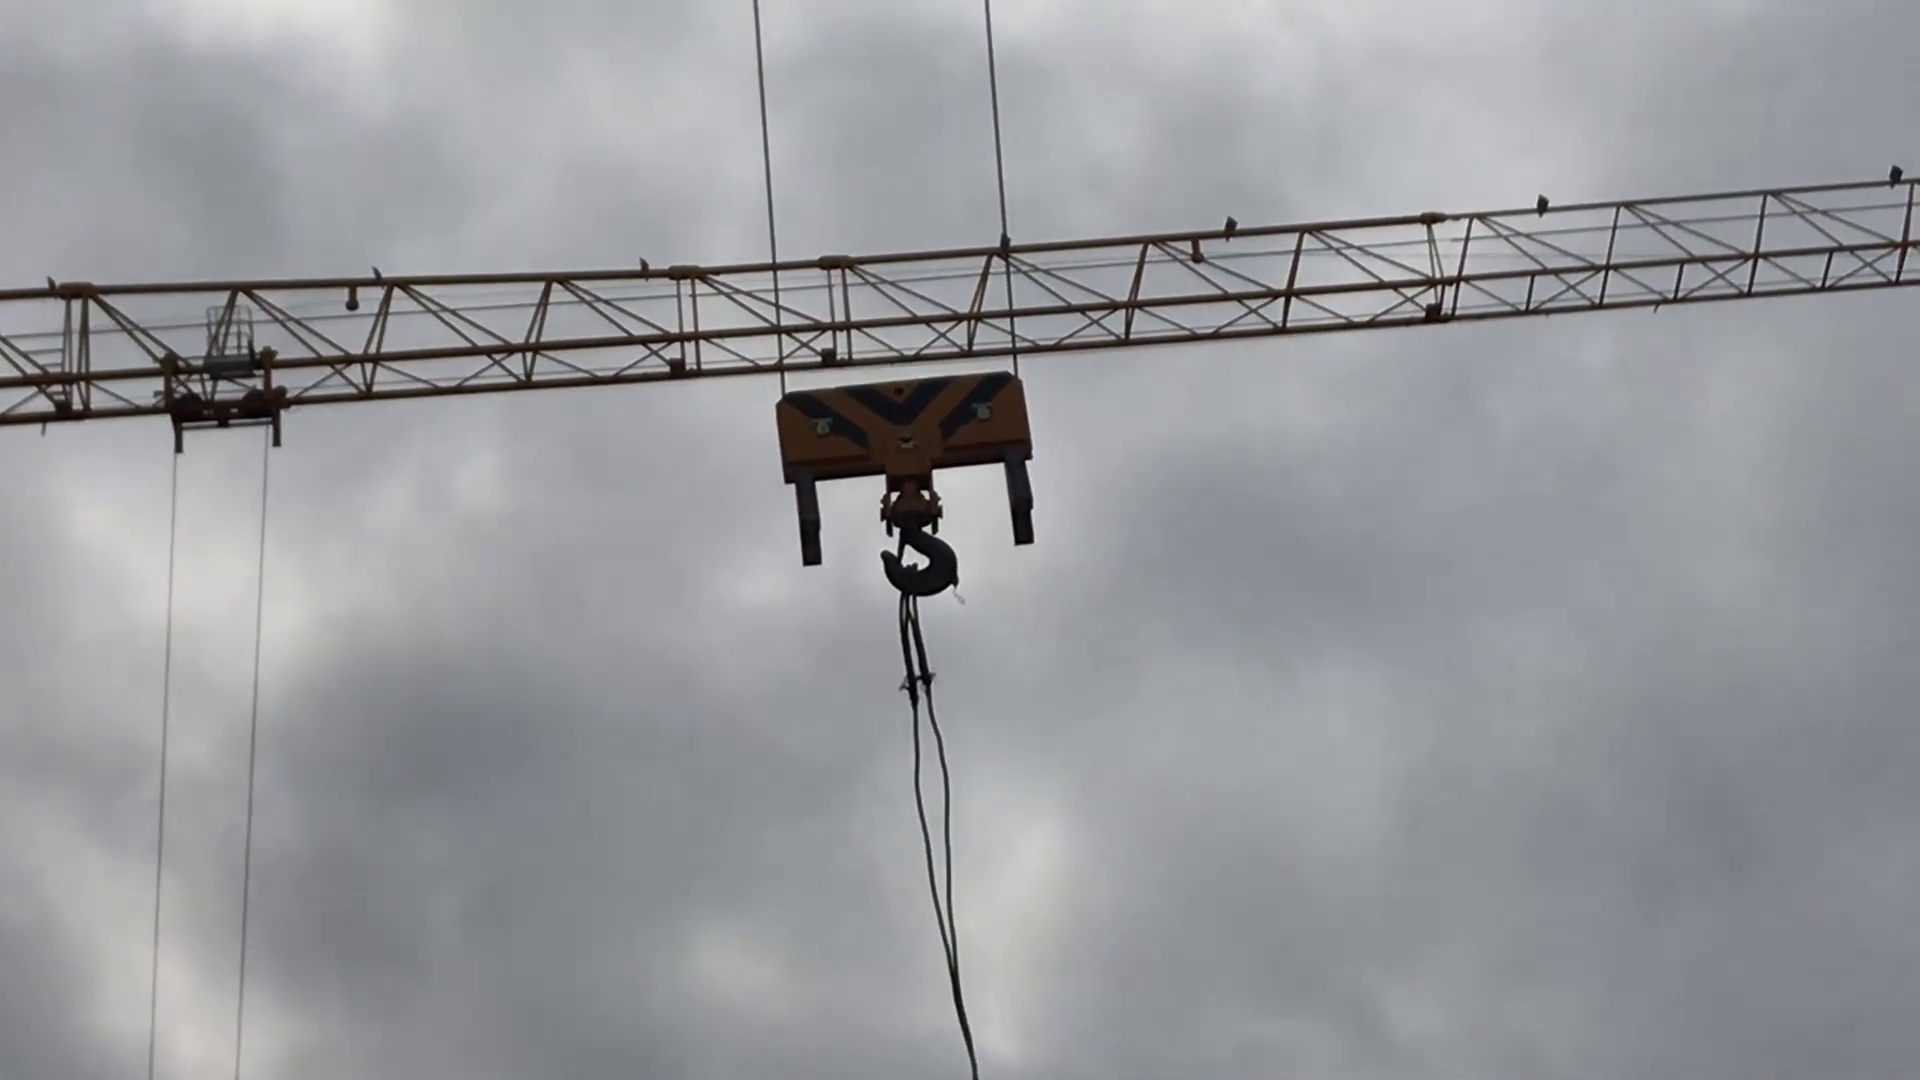hook: (758, 377, 1051, 593)
